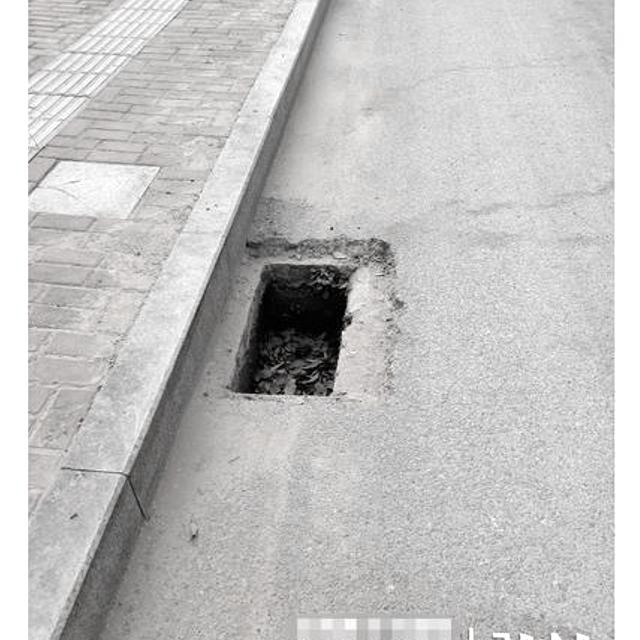lose: (164, 214, 435, 435)
